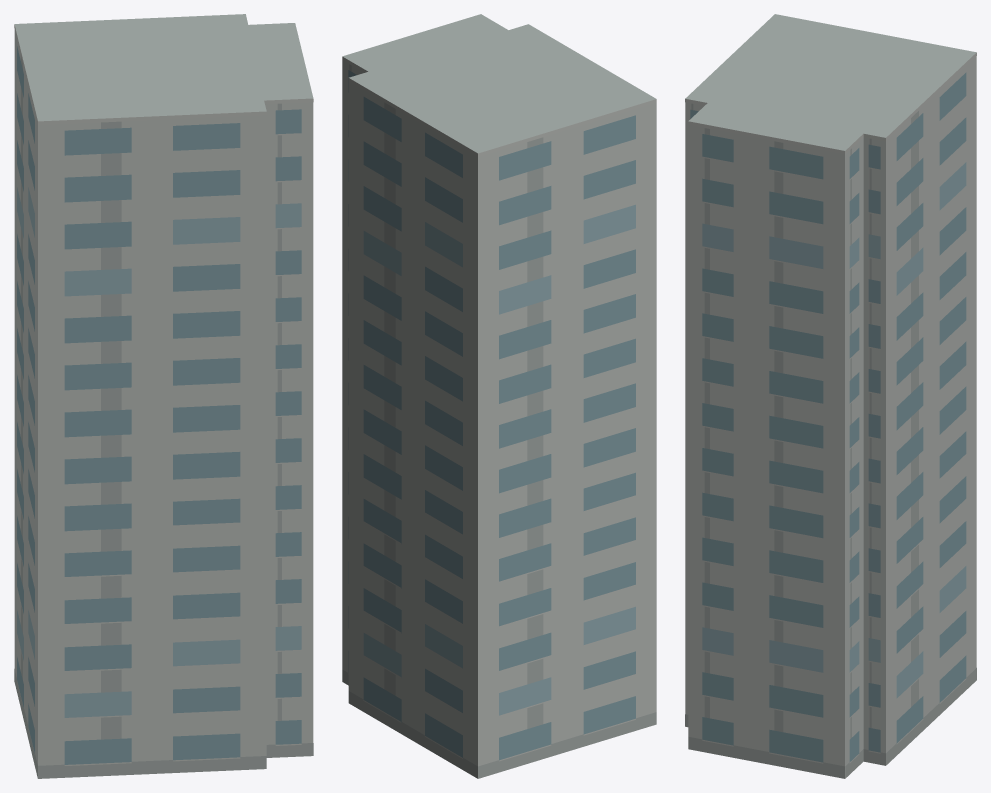
The model's file is residential-206ad6ec-8f5c-403f-aaa0-5dbe2578b3d0.glb.
3 views of the same model, side by side, from view 1: azimuth 30°, elevation 25°; view 2: azimuth 150°, elevation 25°; view 3: azimuth 270°, elevation 25° (orthographic). The views are drawn at different scales.
Parts seen in each view (by area): view 1: residential-206ad6ec-8f5c-403f-aaa0-5dbe2578b3d0.tmp; view 2: residential-206ad6ec-8f5c-403f-aaa0-5dbe2578b3d0.tmp; view 3: residential-206ad6ec-8f5c-403f-aaa0-5dbe2578b3d0.tmp.
Part boxes in pixels (x1,y1,x2,y2): residential-206ad6ec-8f5c-403f-aaa0-5dbe2578b3d0.tmp: (14, 14, 313, 778); residential-206ad6ec-8f5c-403f-aaa0-5dbe2578b3d0.tmp: (342, 14, 656, 778); residential-206ad6ec-8f5c-403f-aaa0-5dbe2578b3d0.tmp: (685, 14, 976, 778).
Size of the model in its own units: 19.66 by 42 by 17.69.
